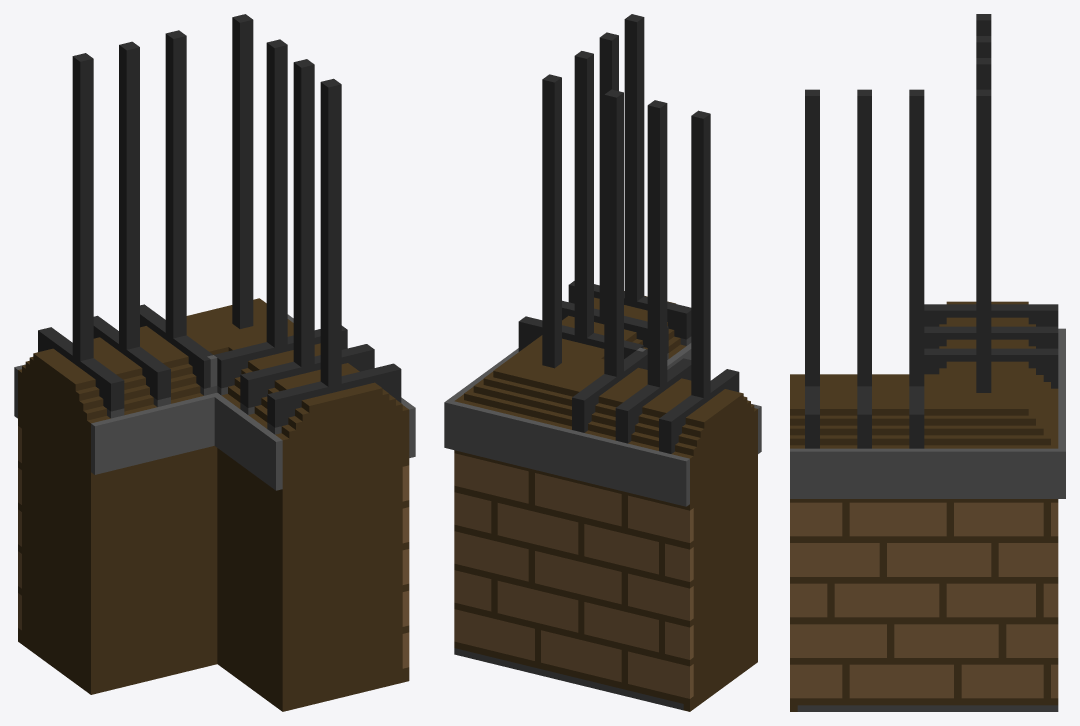
Rendered from Roof_walls-2.obj.
The picture shows the model from 3 angles, left to right: view 1: azimuth 30°, elevation 25°; view 2: azimuth 150°, elevation 25°; view 3: azimuth 270°, elevation 25°; orthographic projection. The views are drawn at different scales.
Bounding box in the file's own units: 3.9 × 8.7 × 3.7.
Materials: 1 (1 with a texture image).
